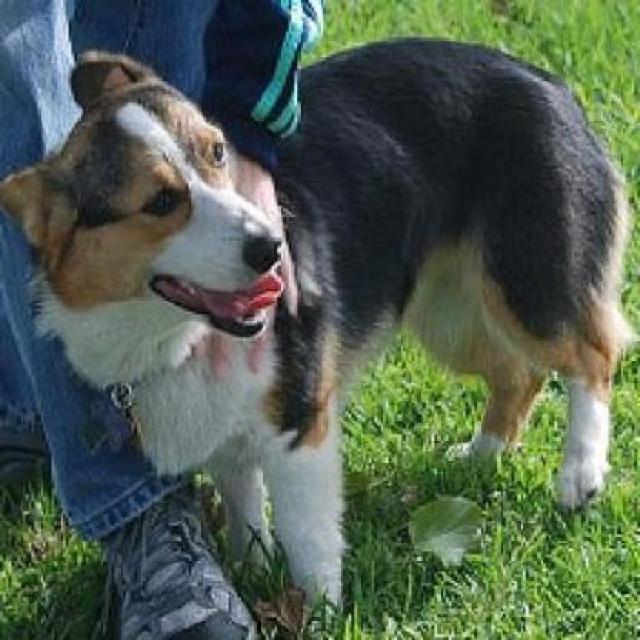Dog: (3, 29, 639, 618)
